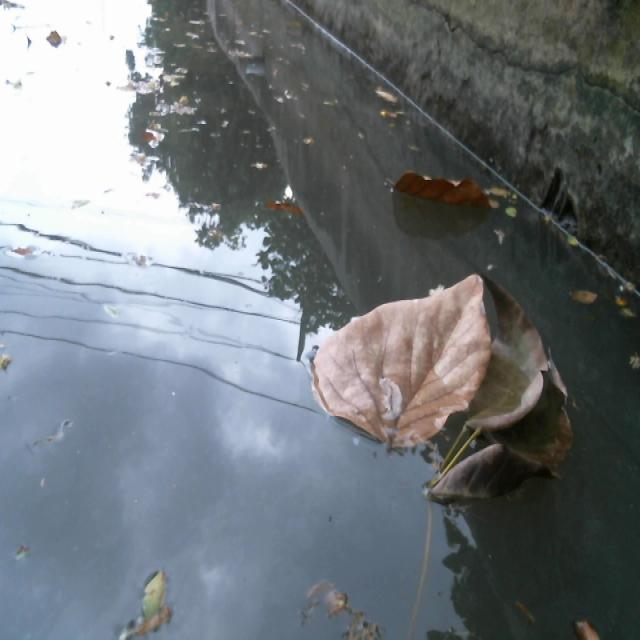Big-leaf: (311, 261, 490, 448), (424, 283, 569, 506), (378, 158, 502, 208)
Small-leaf: (297, 582, 382, 640), (124, 556, 178, 640), (0, 332, 39, 388), (618, 276, 640, 375), (262, 183, 302, 219), (374, 81, 403, 124), (576, 280, 602, 316), (505, 201, 521, 222), (564, 231, 579, 249)
